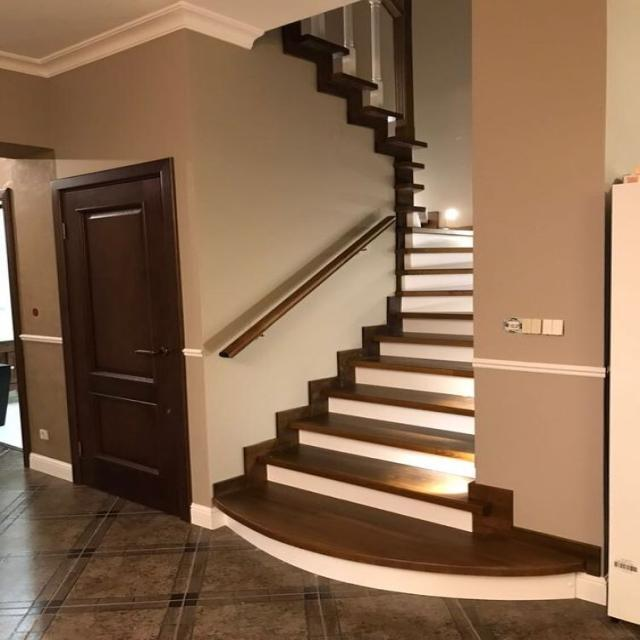stair: (209, 222, 586, 558)
